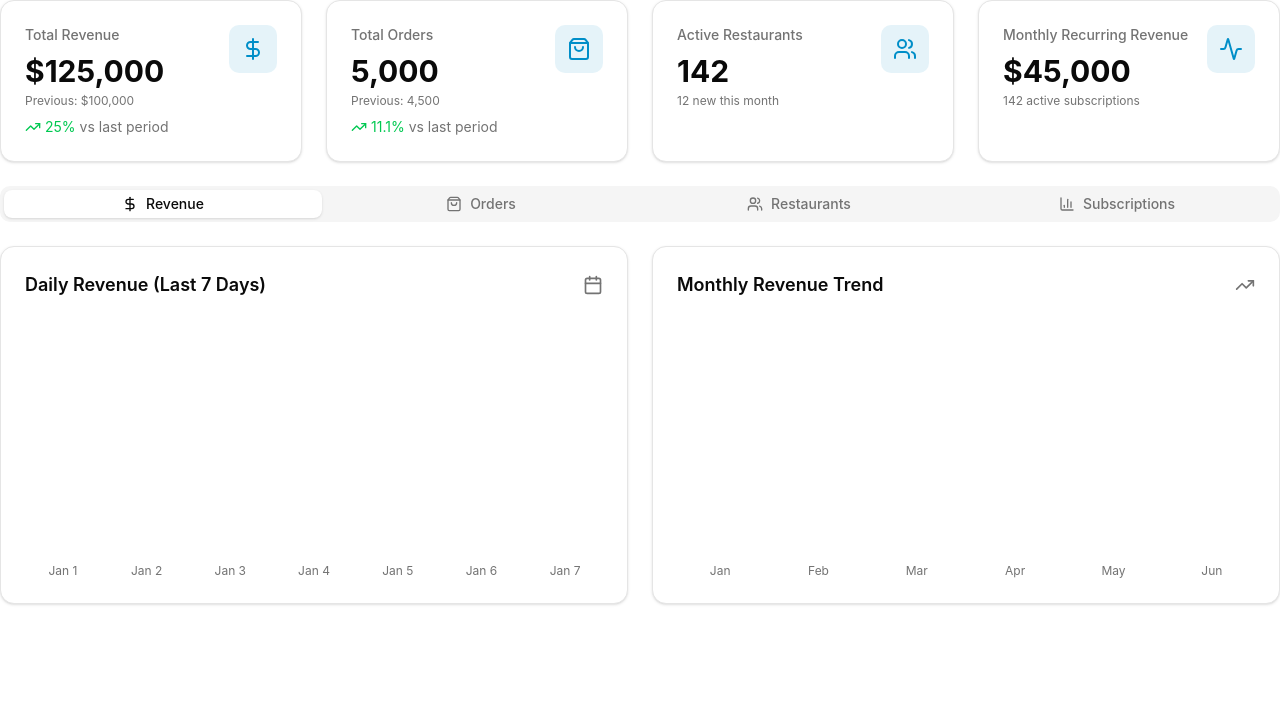
Test case: PlatformAnalytics › displays order status breakdown
// Switch to orders tab
Click the tab "Orders": click(481, 204) left=322, top=190, right=640, bottom=218
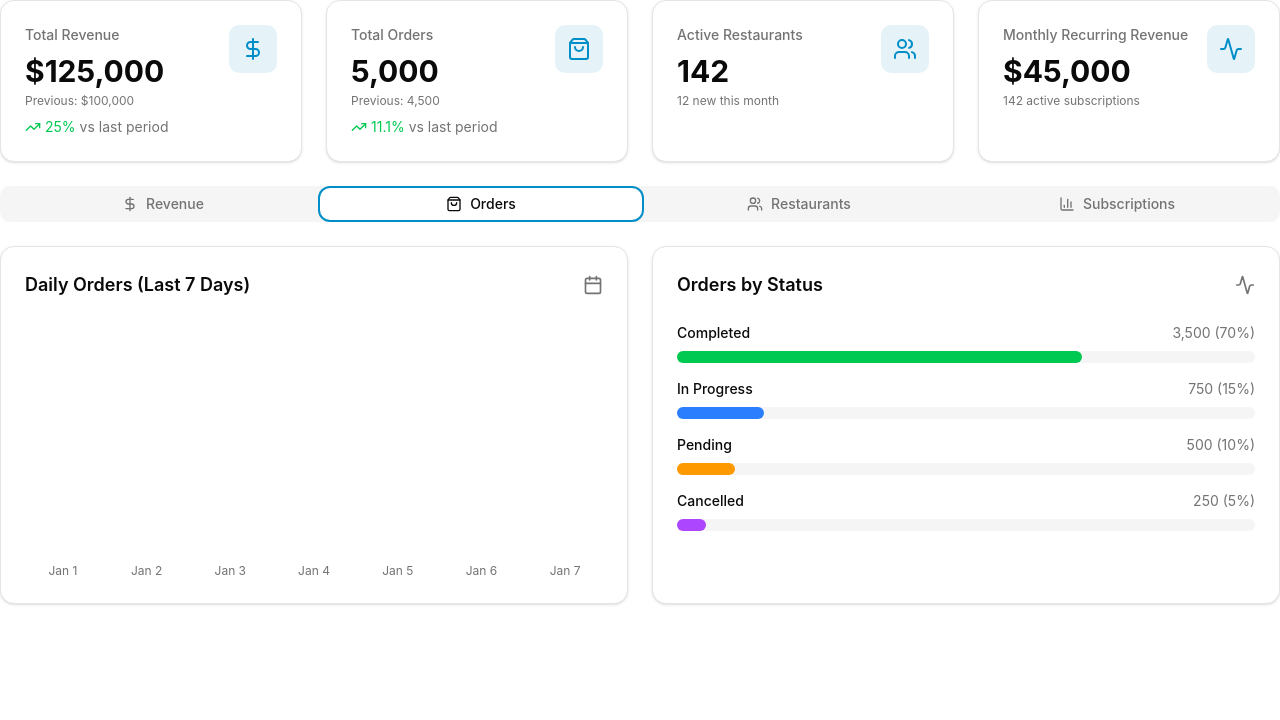
Result: the text "Completed" is shown at left=677, top=323, right=750, bottom=343
Result: the text "In Progress" is shown at left=677, top=379, right=753, bottom=399
Result: the text "Pending" is shown at left=677, top=435, right=732, bottom=455
